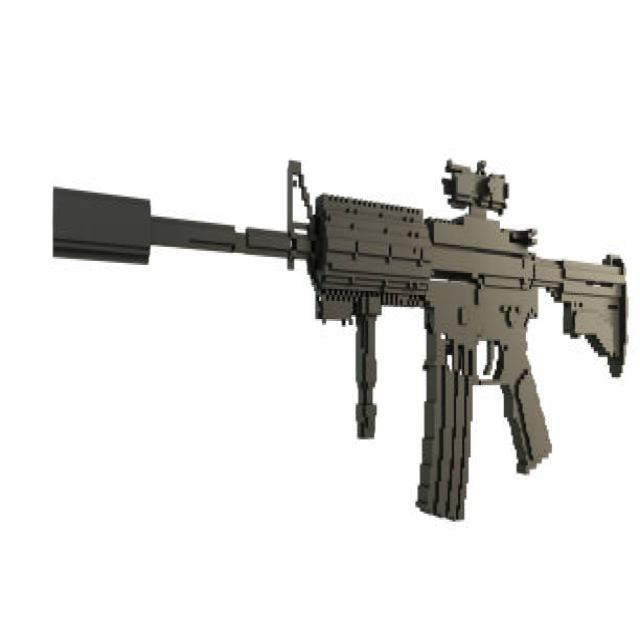rifle: (49, 156, 632, 529)
